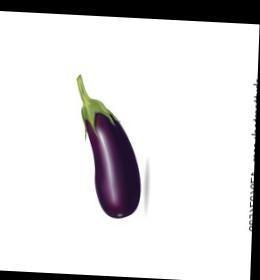eggplant: (62, 68, 174, 231)
